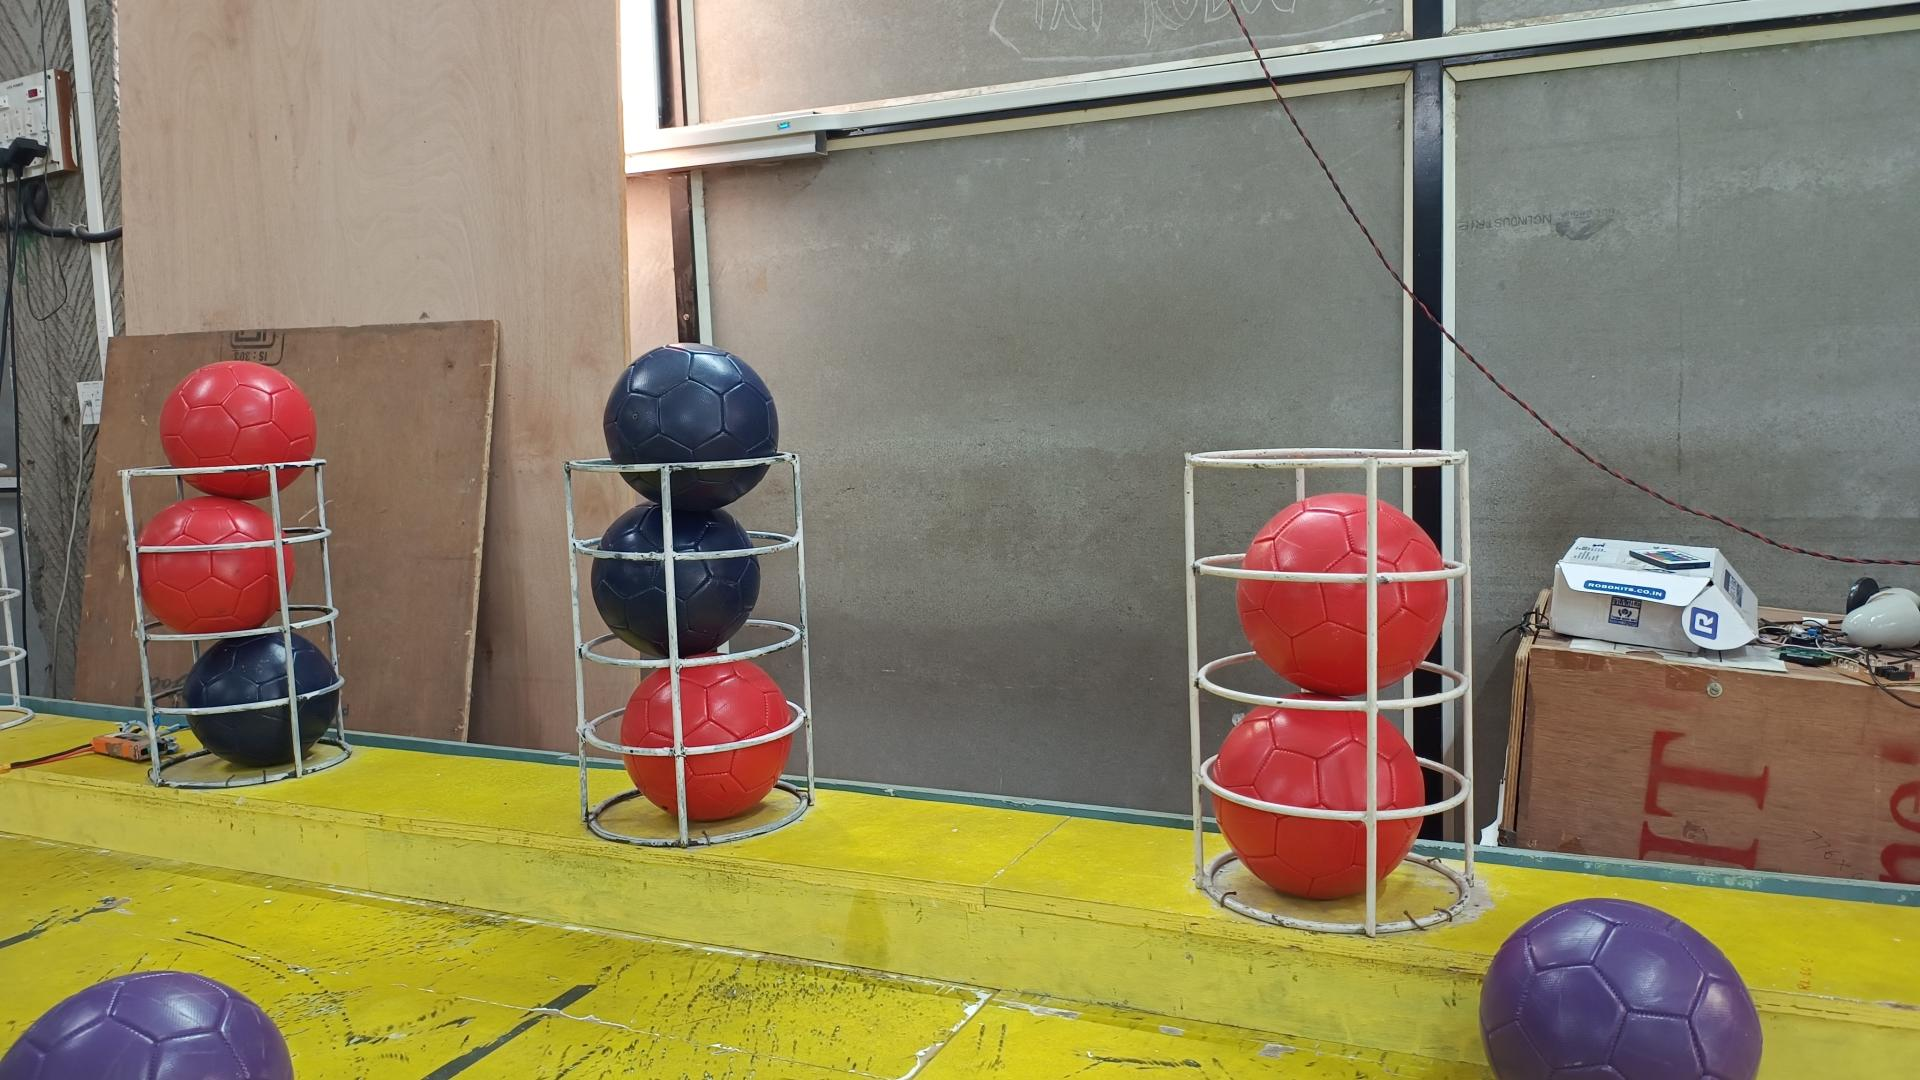dhoka: (604, 345, 781, 514), (592, 502, 761, 657), (179, 634, 342, 769)
laale: (1204, 702, 1425, 899), (1237, 492, 1448, 698), (618, 661, 795, 822), (157, 360, 315, 502), (138, 495, 297, 634)
